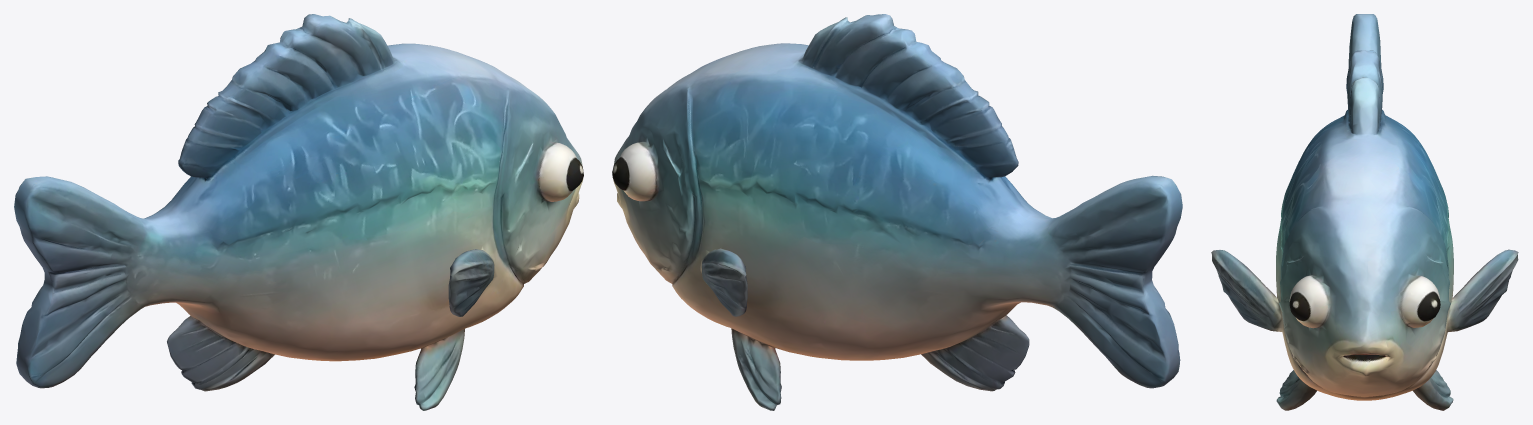
Rendered from fish.glb.
The picture shows the model from 3 angles, left to right: view 1: azimuth 30°, elevation 25°; view 2: azimuth 150°, elevation 25°; view 3: azimuth 270°, elevation 25°; orthographic projection. The views are drawn at different scales.
Parts seen in each view (by area): view 1: tripo_node_80990f6c-6b8a-44c9-badb-78f25a733658; view 2: tripo_node_80990f6c-6b8a-44c9-badb-78f25a733658; view 3: tripo_node_80990f6c-6b8a-44c9-badb-78f25a733658.
Boxes of the visible parts, x1,y1,x2,y2 form: tripo_node_80990f6c-6b8a-44c9-badb-78f25a733658: (14, 14, 583, 410); tripo_node_80990f6c-6b8a-44c9-badb-78f25a733658: (612, 14, 1182, 410); tripo_node_80990f6c-6b8a-44c9-badb-78f25a733658: (1211, 14, 1518, 410).
Size of the model in its own units: 1 by 0.639 by 0.543.
Materials: 1 (1 with a texture image).
